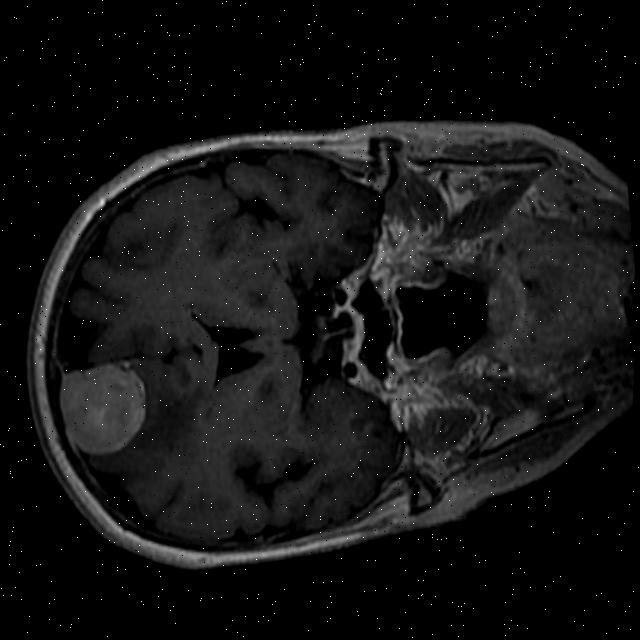Meningioma: (52, 352, 154, 462)
Pituitary: (332, 304, 370, 356)
